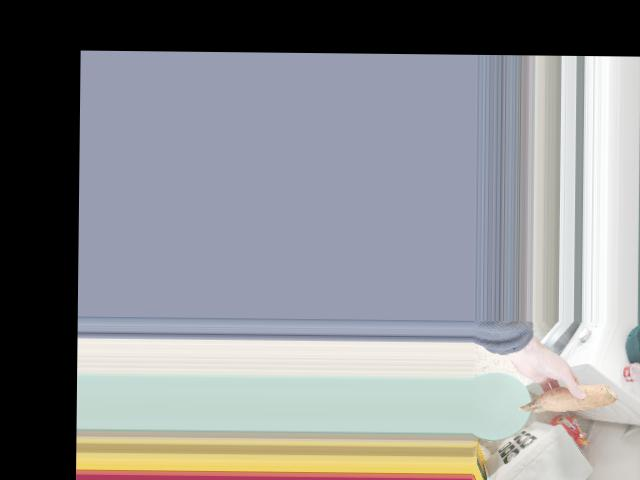sweet_potato: (513, 388, 621, 415)
